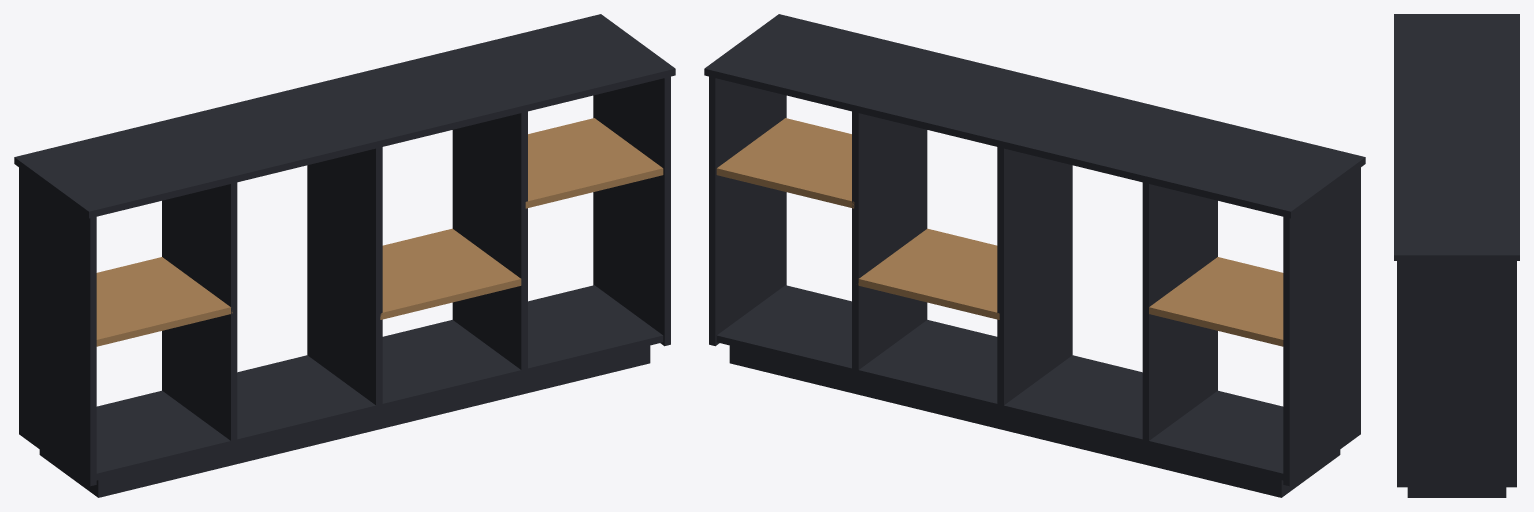
The model's file is FN_Bookcase_Divider.glb.
3 views of the same model, side by side, from view 1: azimuth 30°, elevation 25°; view 2: azimuth 150°, elevation 25°; view 3: azimuth 270°, elevation 25° (orthographic). The views are drawn at different scales.
Parts seen in each view (by area): view 1: FN_Bookcase_Divider; view 2: FN_Bookcase_Divider; view 3: FN_Bookcase_Divider.
Part boxes in pixels (<box>): FN_Bookcase_Divider: <box>14,14,675,497</box>; FN_Bookcase_Divider: <box>704,14,1365,497</box>; FN_Bookcase_Divider: <box>1394,14,1519,497</box>.
Size of the model in its own units: 1.62 by 0.78 by 0.356.
1 material, 1 textured.
